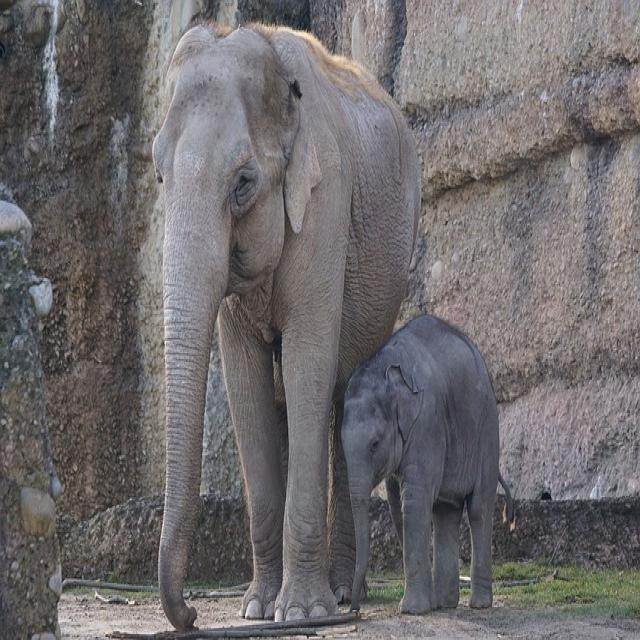elephant: (154, 24, 420, 631), (341, 315, 499, 613)
